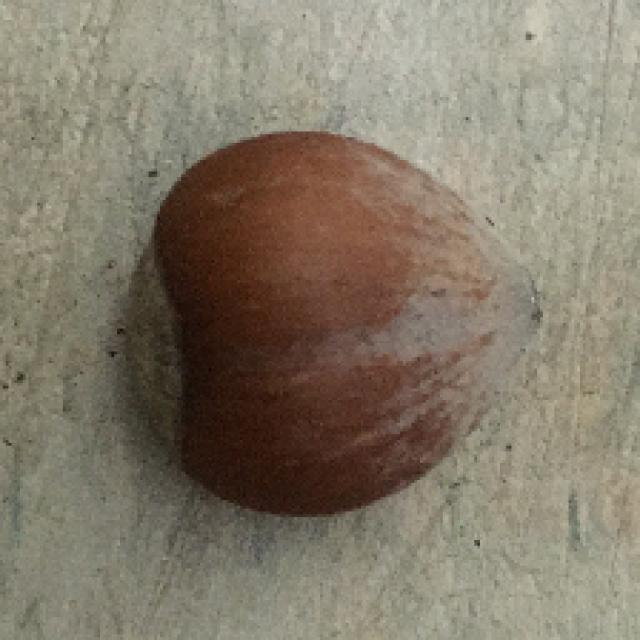qualityHazelnut: (92, 130, 556, 512)
